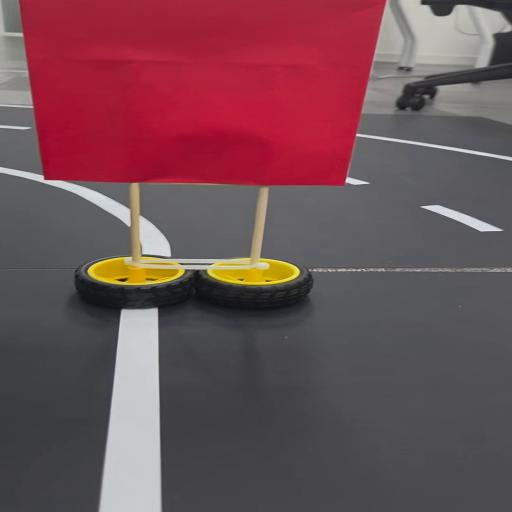Sign_A: (33, 0, 389, 300)
